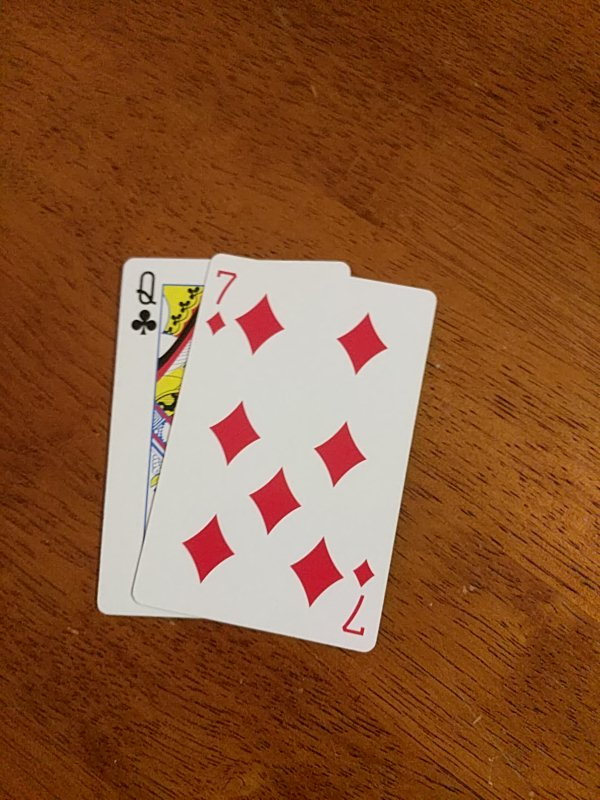Clubs: (96, 256, 349, 619)
Diamonds: (139, 254, 440, 654)
